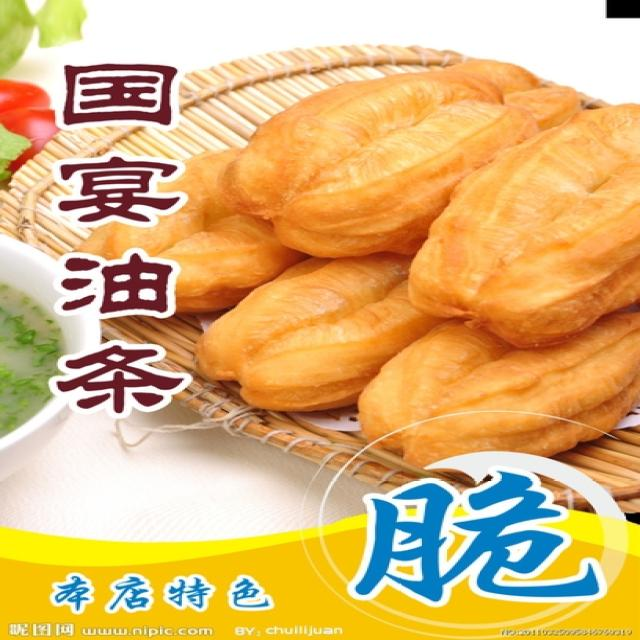炸货点心: (84, 45, 630, 517)
